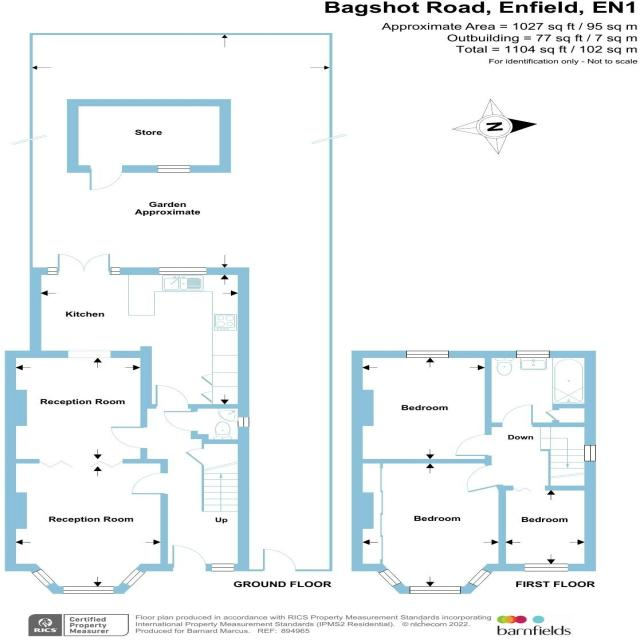DOOR: (466, 464, 503, 493), (171, 544, 207, 571), (109, 425, 148, 449), (154, 384, 190, 409), (454, 434, 492, 457), (130, 472, 168, 495), (162, 410, 198, 432), (501, 404, 534, 427)
DOUBLE DOOR: (57, 253, 111, 276)
ROOM: (5, 350, 168, 595), (29, 253, 250, 409), (351, 459, 506, 594), (351, 350, 492, 463), (497, 485, 596, 572)
WINDOW: (31, 568, 56, 588), (120, 568, 146, 587), (467, 568, 492, 587), (378, 568, 403, 587), (409, 586, 462, 594), (62, 586, 115, 594), (524, 563, 569, 572), (158, 267, 207, 275), (405, 350, 449, 358), (515, 350, 551, 358), (211, 563, 236, 572), (584, 444, 596, 462), (237, 417, 250, 427), (47, 267, 57, 275), (111, 267, 121, 275)
